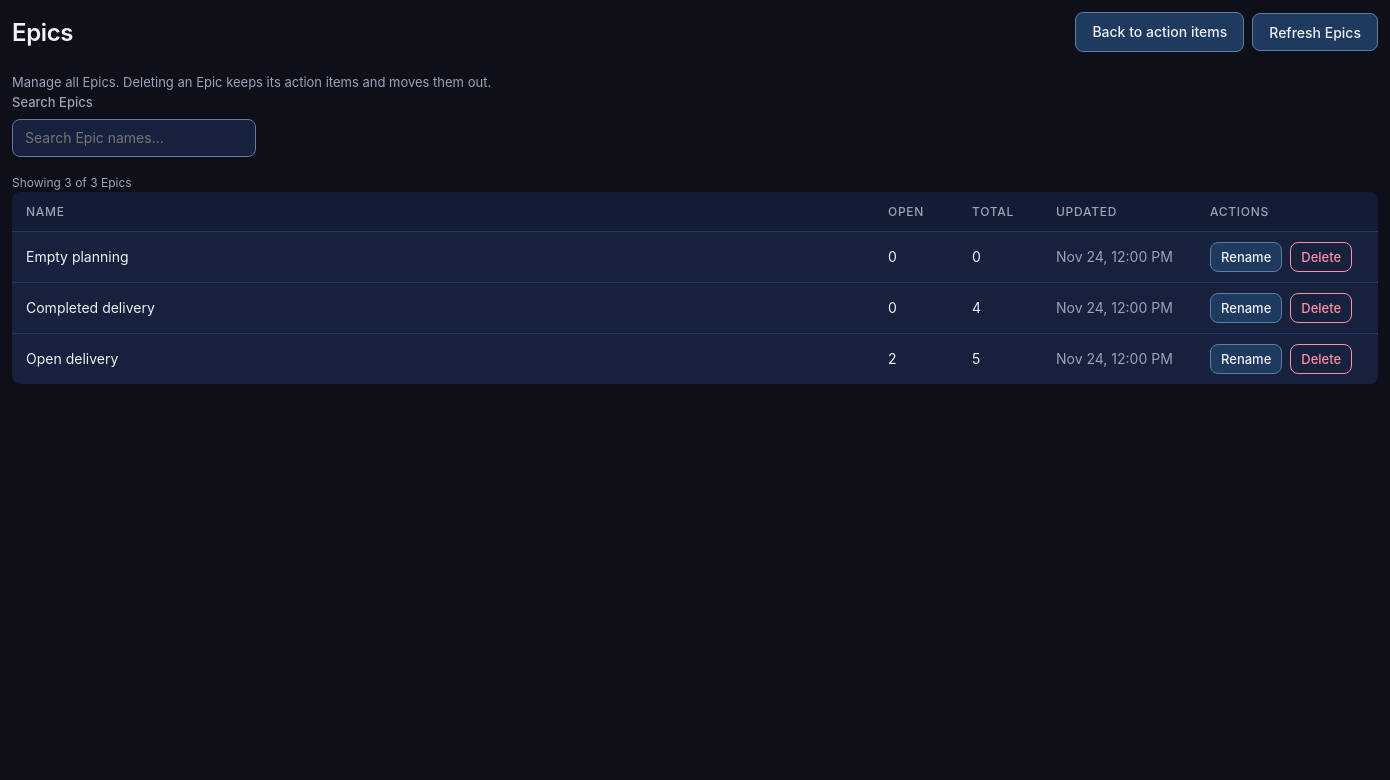
Test: retains the rename draft across a conflict and does not silently replace its revision
Click the button with aria-label "Rename Epic Empty planning": (1246, 257) [1210, 242, 1282, 272]
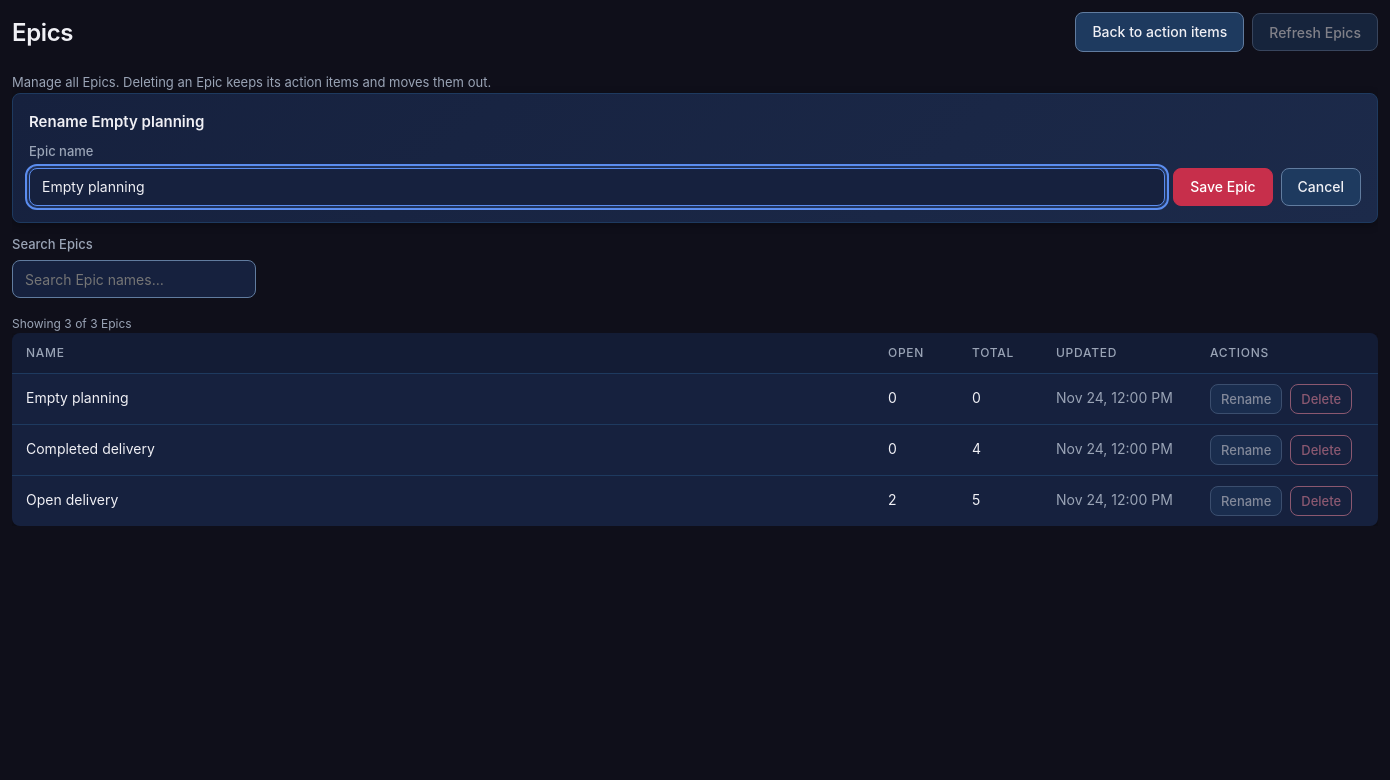
Replace the text in the field labelled "Epic name" with "My draft": (597, 187) [29, 168, 1165, 206]
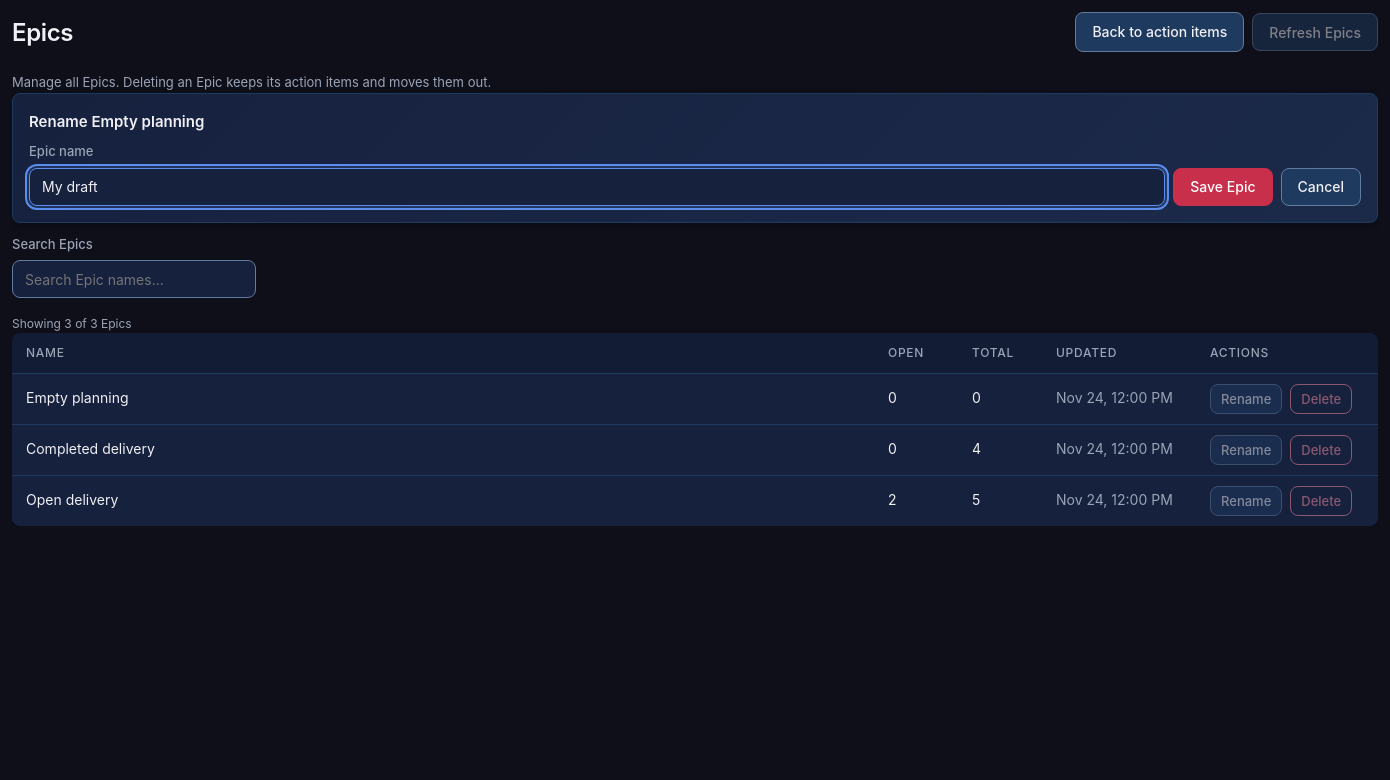
Click the button "Save Epic": (1223, 187) [1173, 168, 1272, 206]
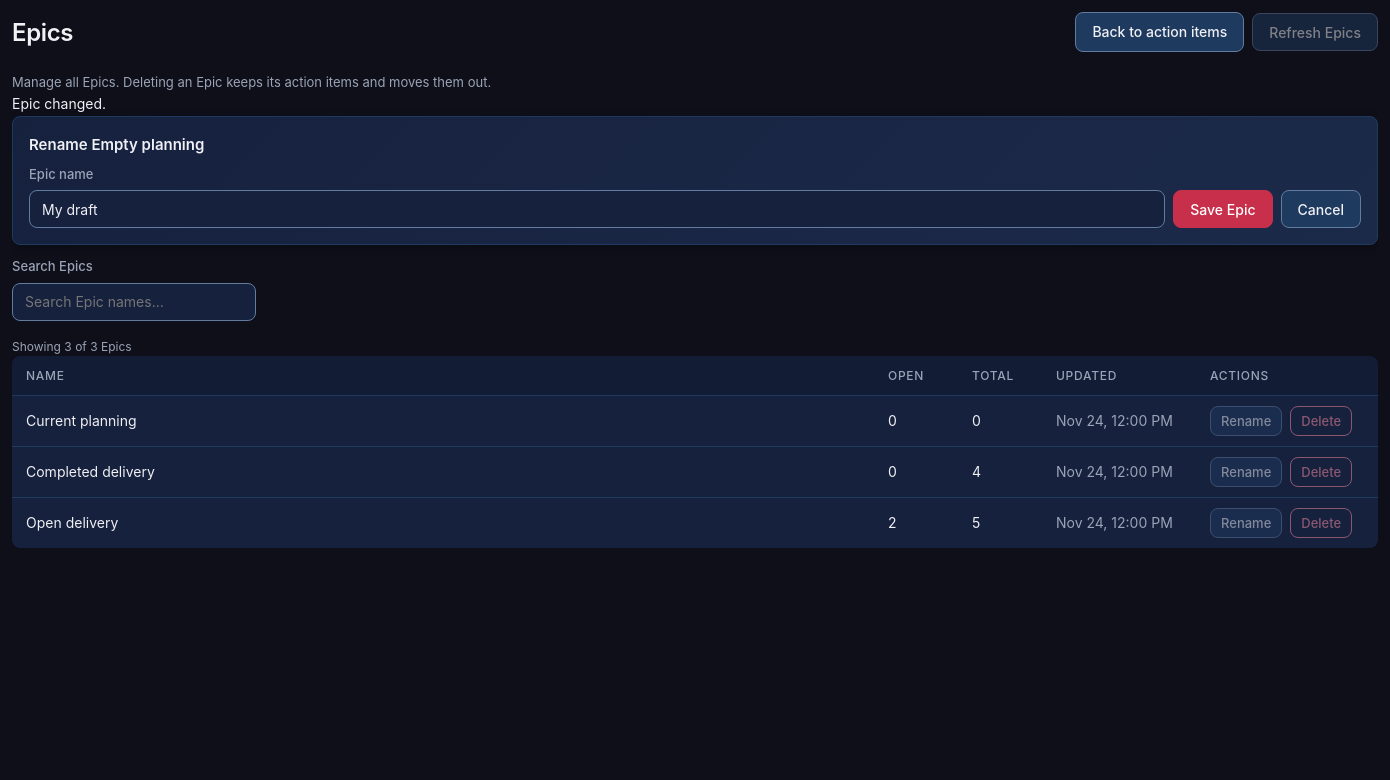
Now the text "Current planning" is shown, box [12, 396, 874, 446]
Click the button "Save Epic": (1223, 209) [1173, 190, 1272, 228]
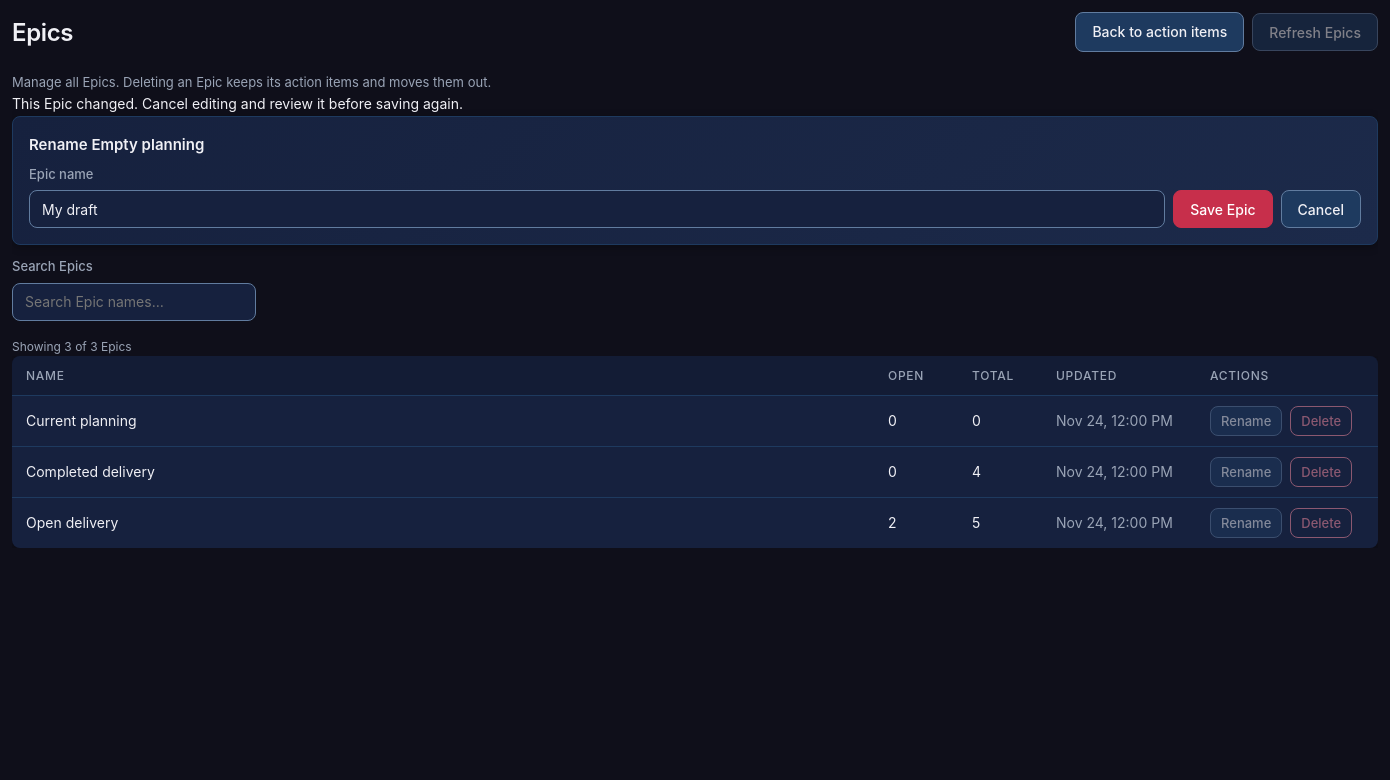
Now the message "This Epic changed. Cancel editing and review it before saving again." is shown, box [12, 95, 463, 112]
Click the button "Cancel": (1321, 209) [1280, 190, 1361, 228]
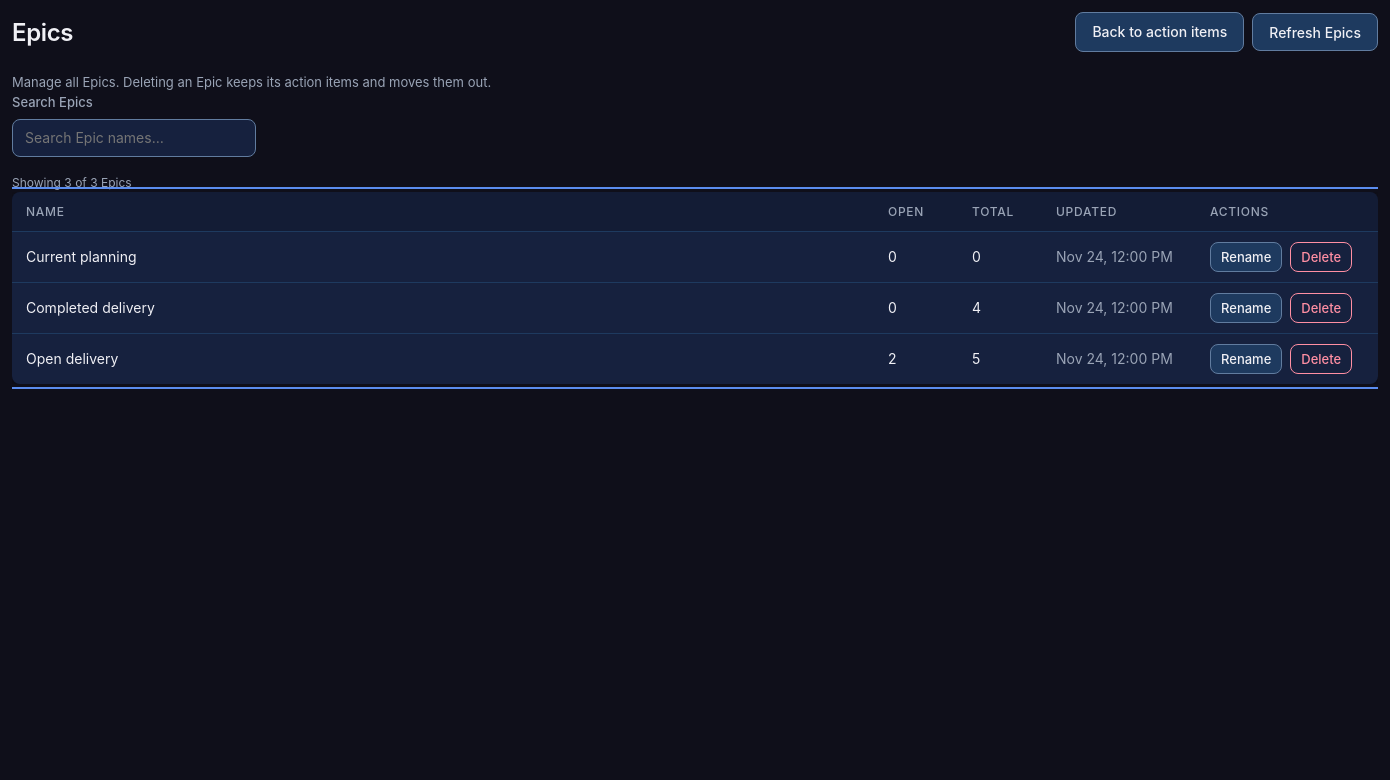
Click the button with aria-label "Rename Epic Current planning": (1246, 257) [1210, 242, 1282, 272]
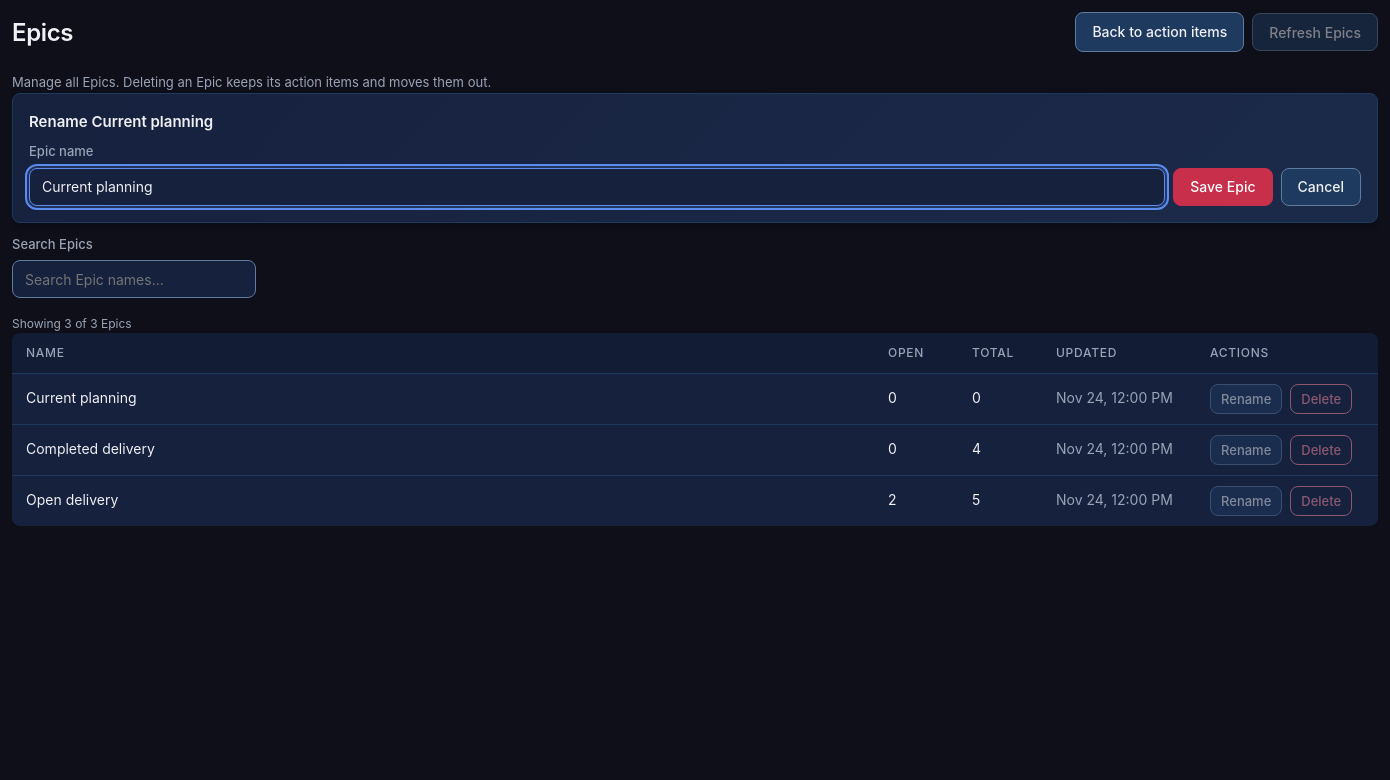
Now the field labelled "Epic name" holds "Current planning", box [29, 168, 1165, 206]
